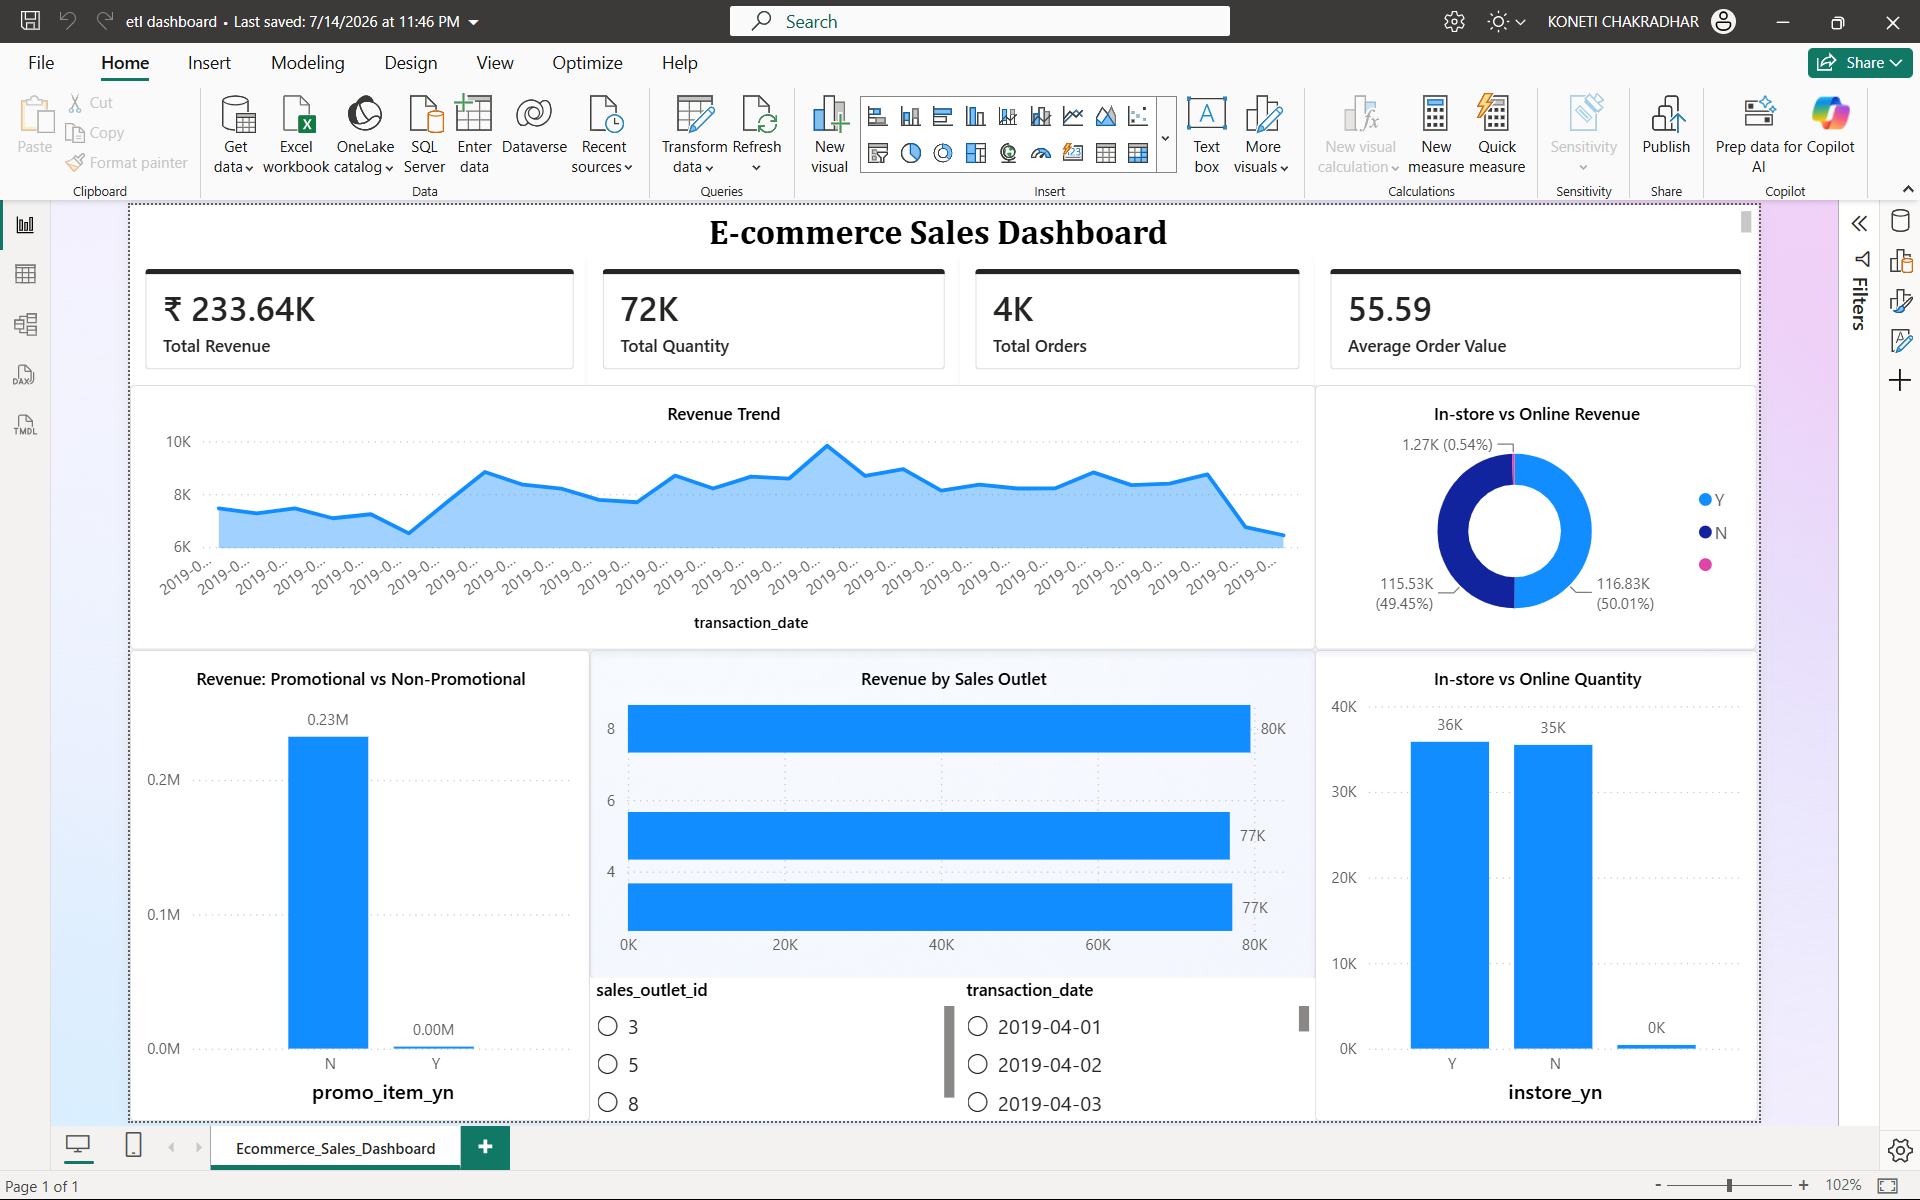

Layout of this report page (visuals, bound fields, positions):
{"tool":"powerbi","page":{"name":"Ecommerce_Sales_Dashboard","canvas":[1280,720],"ordinal":0},"visuals":[{"type":"cardVisual","fields":{"Data":["ecommerce_pipeline sales_data.Total Revenue"]},"box":[0,38.5,361.5,103.3],"z":0},{"type":"cardVisual","fields":{"Data":["ecommerce_pipeline sales_data.Total Quantity"]},"box":[359.3,38.5,293.4,103.3],"z":1000},{"type":"cardVisual","fields":{"Data":["ecommerce_pipeline sales_data.Total Orders"]},"box":[652.7,38.5,279.1,103.3],"z":2000},{"type":"cardVisual","fields":{"Data":["ecommerce_pipeline sales_data.Average Order Value"]},"box":[931.9,38.5,347.3,103.3],"z":3000},{"type":"lineChart","title":"Revenue Trend","fields":{"Category":["ecommerce_pipeline sales_data.transaction_date"],"Y":["Sum(ecommerce_pipeline sales_data.line_item_amount)"]},"box":[0,141.8,931.9,207.7],"z":4000},{"type":"clusteredColumnChart","title":"Revenue: Promotional vs Non-Promotional","fields":{"Category":["ecommerce_pipeline sales_data.promo_item_yn"],"Y":["ecommerce_pipeline sales_data.Total Revenue"]},"box":[0,349.5,361.5,370.3],"z":5000},{"type":"clusteredBarChart","title":"Revenue by Sales Outlet","fields":{"Category":["ecommerce_pipeline sales_data.sales_outlet_id"],"Y":["Sum(ecommerce_pipeline sales_data.line_item_amount)"]},"box":[361.5,349.5,570.3,258.2],"z":6000},{"type":"clusteredColumnChart","title":"In-store vs Online Quantity","fields":{"Category":["ecommerce_pipeline sales_data.instore_yn"],"Y":["Sum(ecommerce_pipeline sales_data.quantity)"]},"box":[931.9,349.5,348.4,370.3],"z":7000},{"type":"donutChart","title":"In-store vs Online Revenue","fields":{"Category":["ecommerce_pipeline sales_data.instore_yn"],"Y":["Sum(ecommerce_pipeline sales_data.line_item_amount)"]},"box":[931.9,141.8,347.3,207.7],"z":8000},{"type":"listSlicer","fields":{"Values":["ecommerce_pipeline sales_data.transaction_date"]},"box":[652.7,607.7,279.1,112.1],"z":9000},{"type":"listSlicer","fields":{"Values":["ecommerce_pipeline sales_data.sales_outlet_id"]},"box":[361.5,607.7,291.2,112.1],"z":10000},{"type":"textbox","box":[0,0,1279.1,38.5],"z":11000}]}

Visuals, with their boxes on the page's 1280x720 design canvas (x1, y1, x2, y2). These are canvas units, not pixel positions in the 1920x1200 screenshot, which may show the page scaled, cropped or inside an application window:
cardVisual - ecommerce_pipeline sales_data.Total Revenue: [0, 38, 362, 142]
cardVisual - ecommerce_pipeline sales_data.Total Quantity: [359, 38, 653, 142]
cardVisual - ecommerce_pipeline sales_data.Total Orders: [653, 38, 932, 142]
cardVisual - ecommerce_pipeline sales_data.Average Order Value: [932, 38, 1279, 142]
"Revenue Trend" lineChart: [0, 142, 932, 350]
"Revenue: Promotional vs Non-Promotional" clusteredColumnChart: [0, 350, 362, 720]
"Revenue by Sales Outlet" clusteredBarChart: [362, 350, 932, 608]
"In-store vs Online Quantity" clusteredColumnChart: [932, 350, 1280, 720]
"In-store vs Online Revenue" donutChart: [932, 142, 1279, 350]
listSlicer - ecommerce_pipeline sales_data.transaction_date: [653, 608, 932, 720]
listSlicer - ecommerce_pipeline sales_data.sales_outlet_id: [362, 608, 653, 720]
textbox: [0, 0, 1279, 38]
